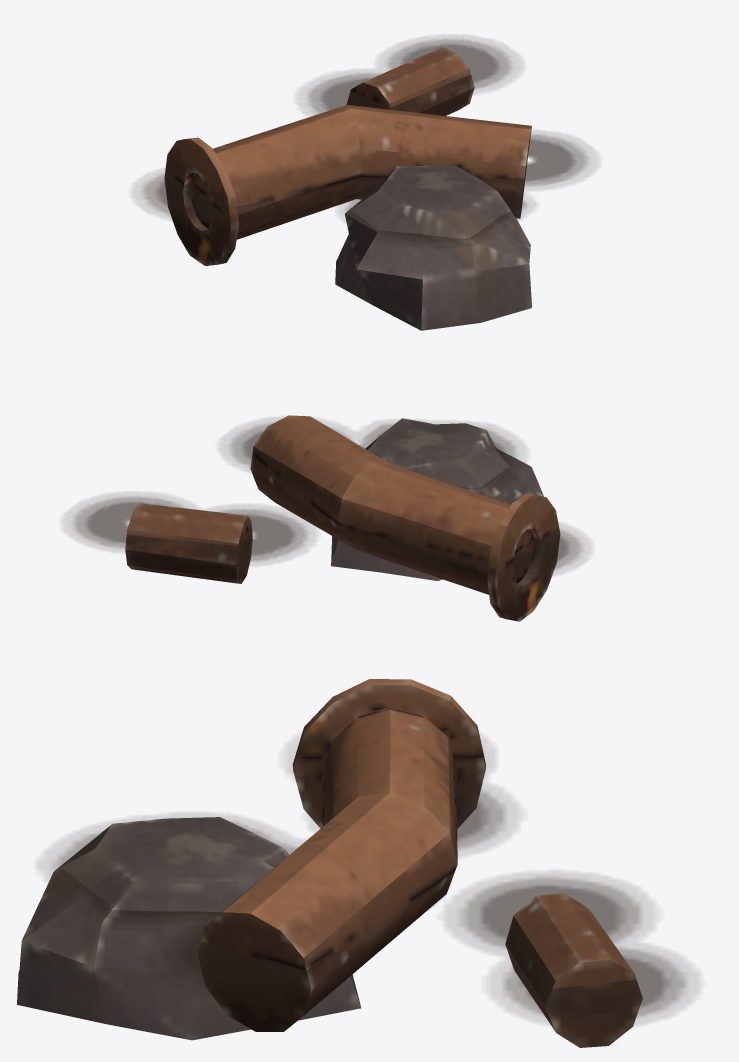
The picture shows the model from 3 angles, top to bottom: view 1: azimuth 30°, elevation 25°; view 2: azimuth 150°, elevation 25°; view 3: azimuth 270°, elevation 25°; orthographic projection. The views are drawn at different scales.
Parts seen in each view (by area): view 1: Pipe, PipeStone, GroundShade; view 2: Pipe, GroundShade, PipeStone; view 3: Pipe, PipeStone, GroundShade.
Part boxes in pixels (x1,y1,x2,y2): Pipe: (164, 47, 531, 265); PipeStone: (335, 165, 531, 330); GroundShade: (133, 35, 597, 246); Pipe: (125, 415, 560, 621); GroundShade: (64, 418, 591, 578); PipeStone: (331, 418, 543, 580); Pipe: (198, 679, 642, 1047); PipeStone: (17, 817, 361, 1040); GroundShade: (39, 739, 697, 1027).
Size of the model in its own units: 12.8 by 3.32 by 11.47.
3 materials, 3 textured.
